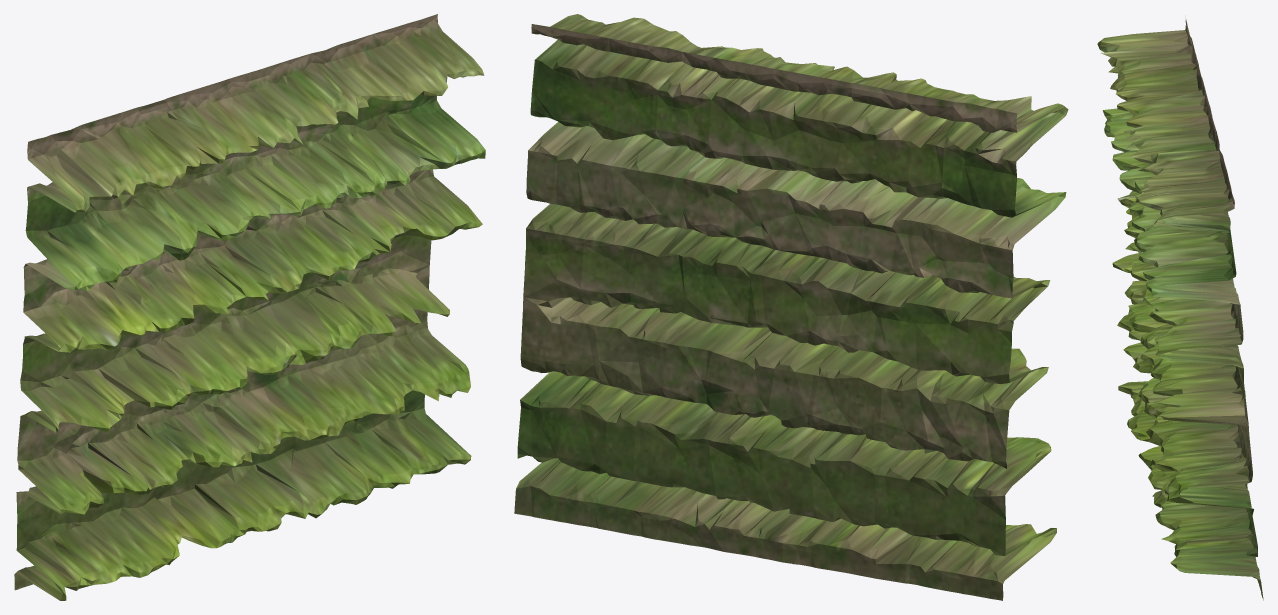
Rendered from map_60_50.obj.
The picture shows the model from 3 angles, left to right: view 1: azimuth 30°, elevation 25°; view 2: azimuth 150°, elevation 25°; view 3: azimuth 270°, elevation 25°; orthographic projection. The views are drawn at different scales.
Parts seen in each view (by area): view 1: grp1; view 2: grp1; view 3: grp1.
Part boxes in pixels (bbox=[...]): grp1: bbox=[14, 14, 485, 600]; grp1: bbox=[514, 14, 1068, 600]; grp1: bbox=[1097, 19, 1263, 600].
Size of the model in its own units: 10 by 10 by 3.77.
Materials: 1 (1 with a texture image).
